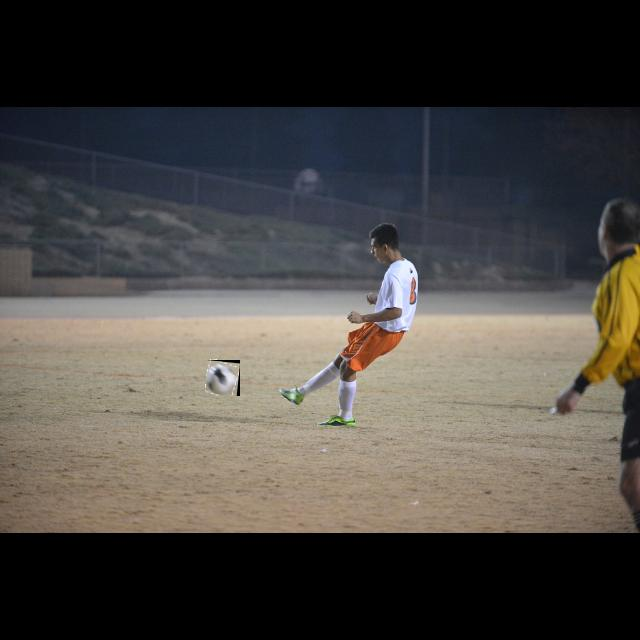Football: (206, 360, 240, 396)
